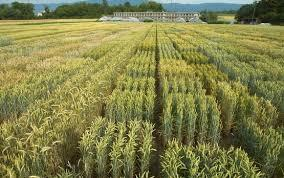field: (0, 20, 283, 176)
